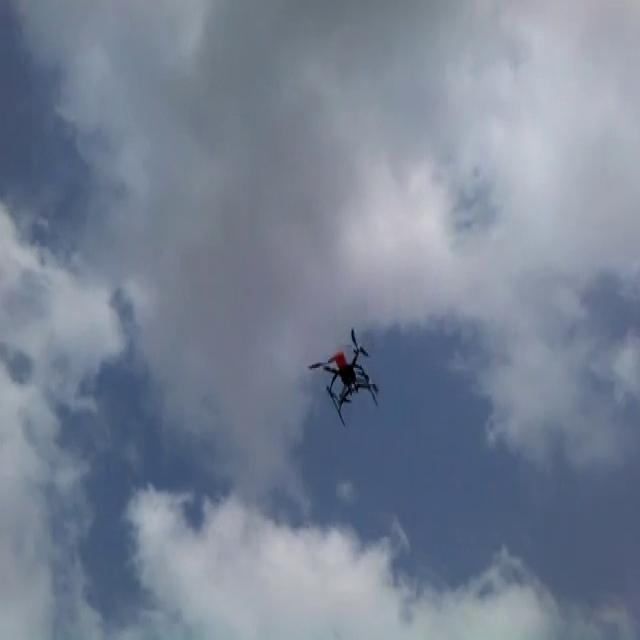drone: (305, 322, 379, 428)
